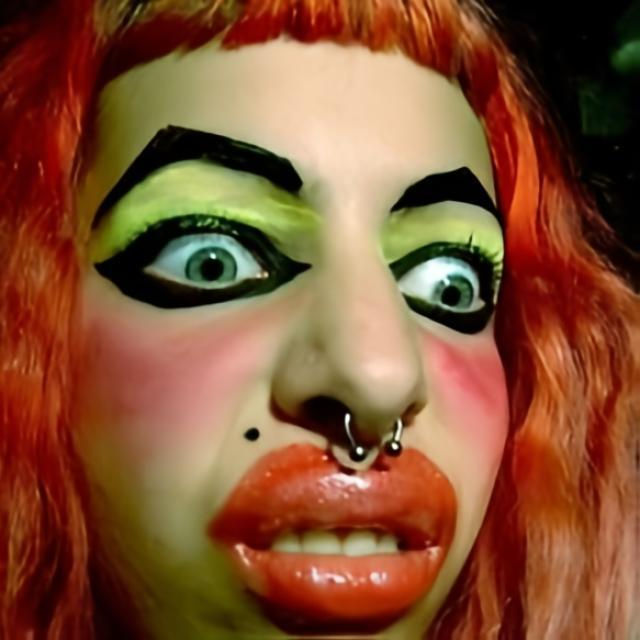fear: (73, 30, 514, 640)
